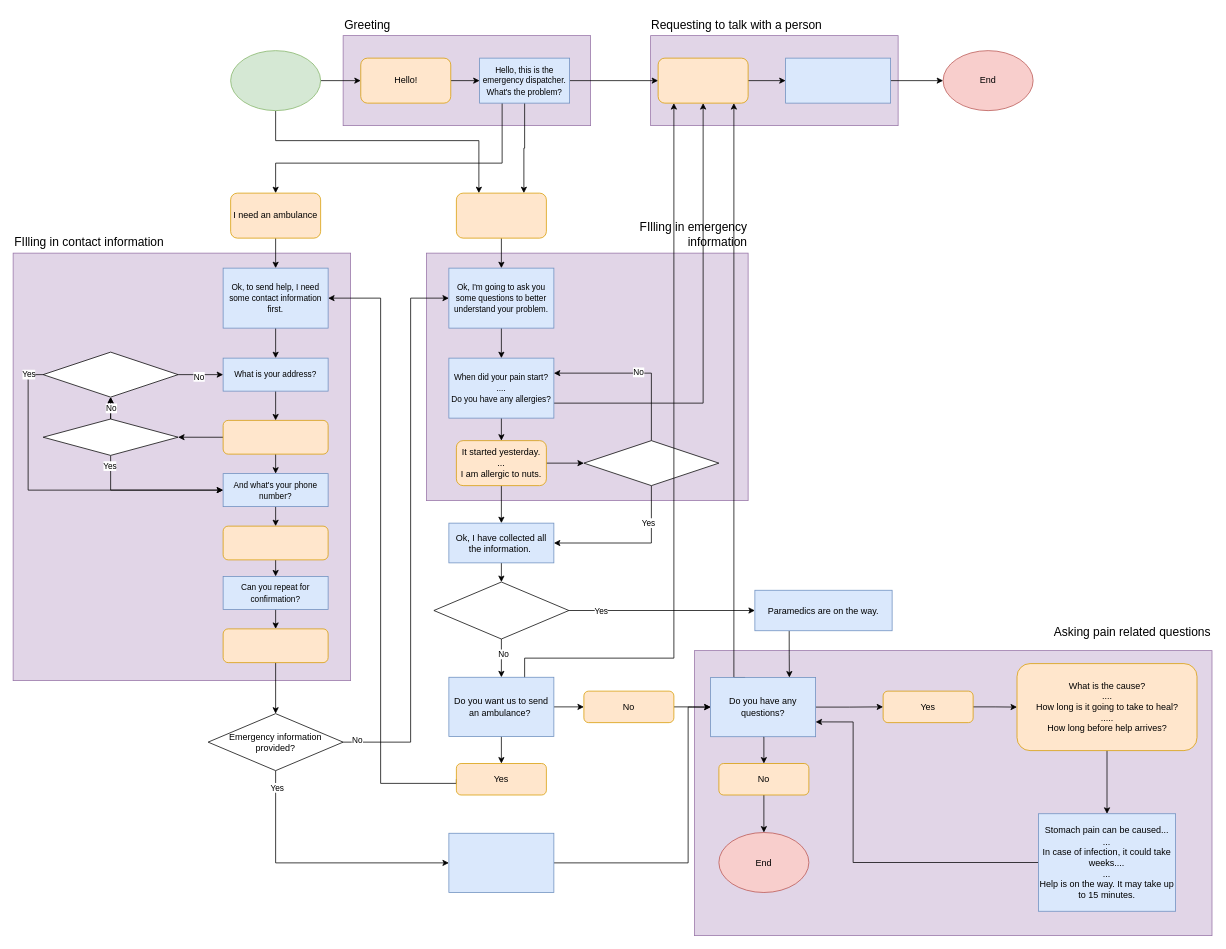
This 1226x949 diagram has some shape labels left out. Here are the shapes that lost their labels. From the top down, the centre of each, then its label:
At point 275,80: "Start".
At point 702,80: "I want to talk with a human operator.".
At point 838,80: "Sure, I'm transferring you to a human agent...".
At point 501,215: "I have a pain in my stomach.".
At point 110,374: "has the user repeated the address over 2 times?".
At point 110,436: "valid address?".
At point 275,437: "Via Brennero 1, Trento.".
At point 651,463: "Is form completed?".
At point 275,542: "It's 3333333333.".
At point 501,610: "address & phone number provided?".
At point 275,645: "sure, 3333333333.".
At point 501,862: "Ok, paramedics are on the way.".
